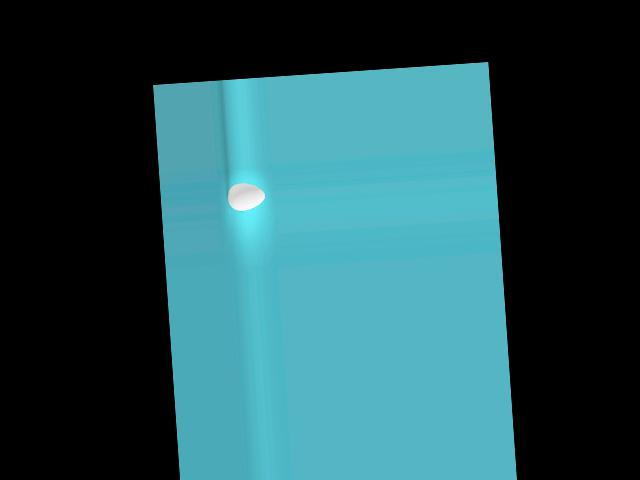egg: (226, 181, 265, 211)
